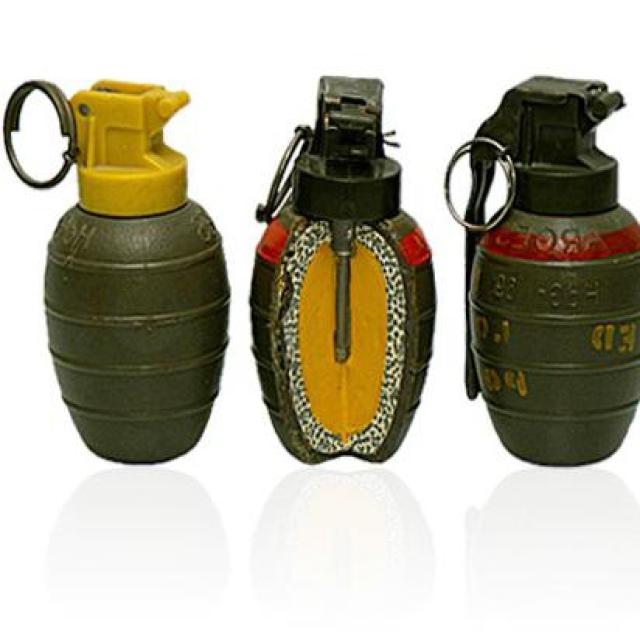grenade: (3, 78, 232, 468), (441, 74, 640, 473), (249, 75, 441, 467)
